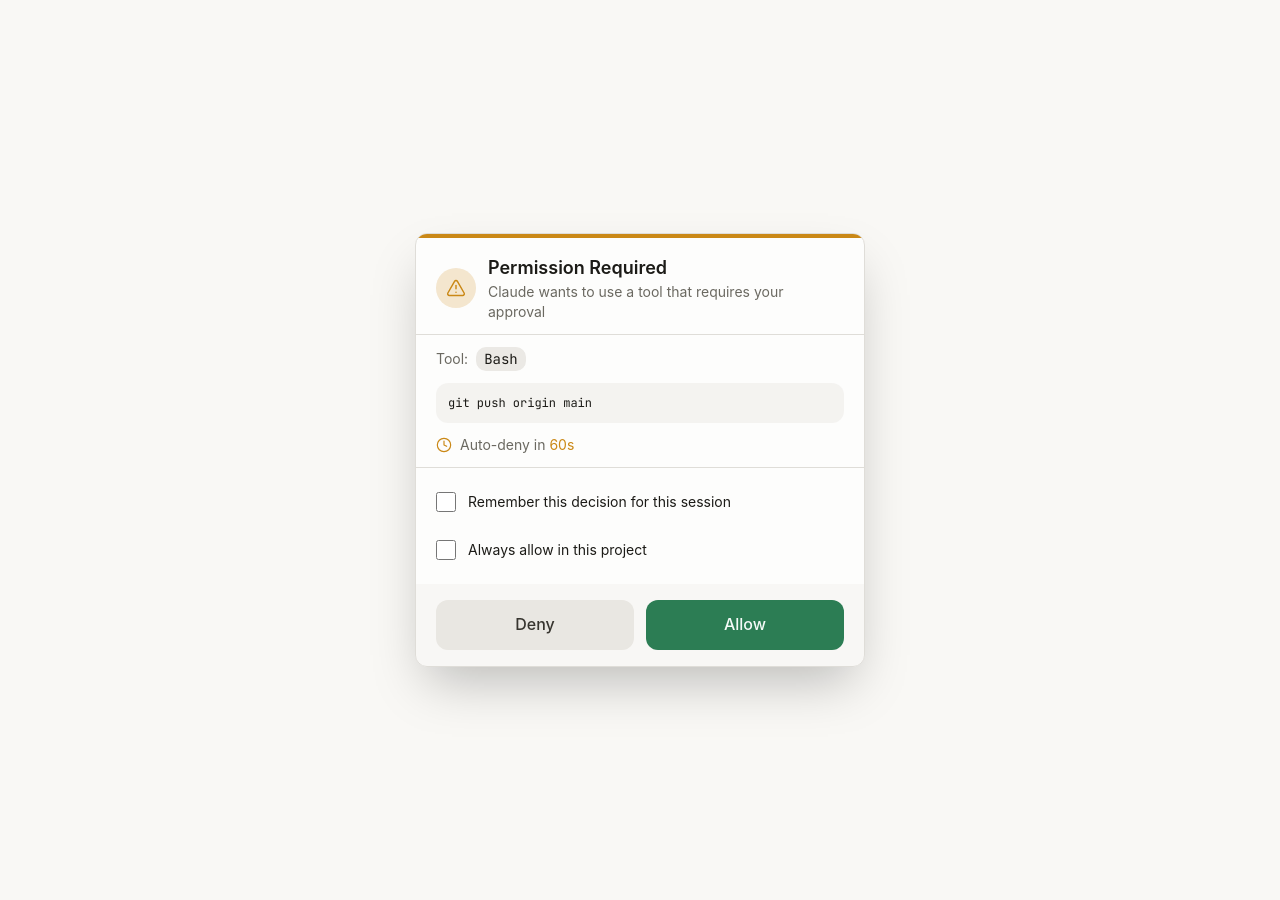
Test case: PermissionModal › shows an editable suggested rule when always-allow is checked
Click the checkbox labelled "Always allow in this project".
click(446, 550)  # box x1=436 y1=540 x2=456 y2=560
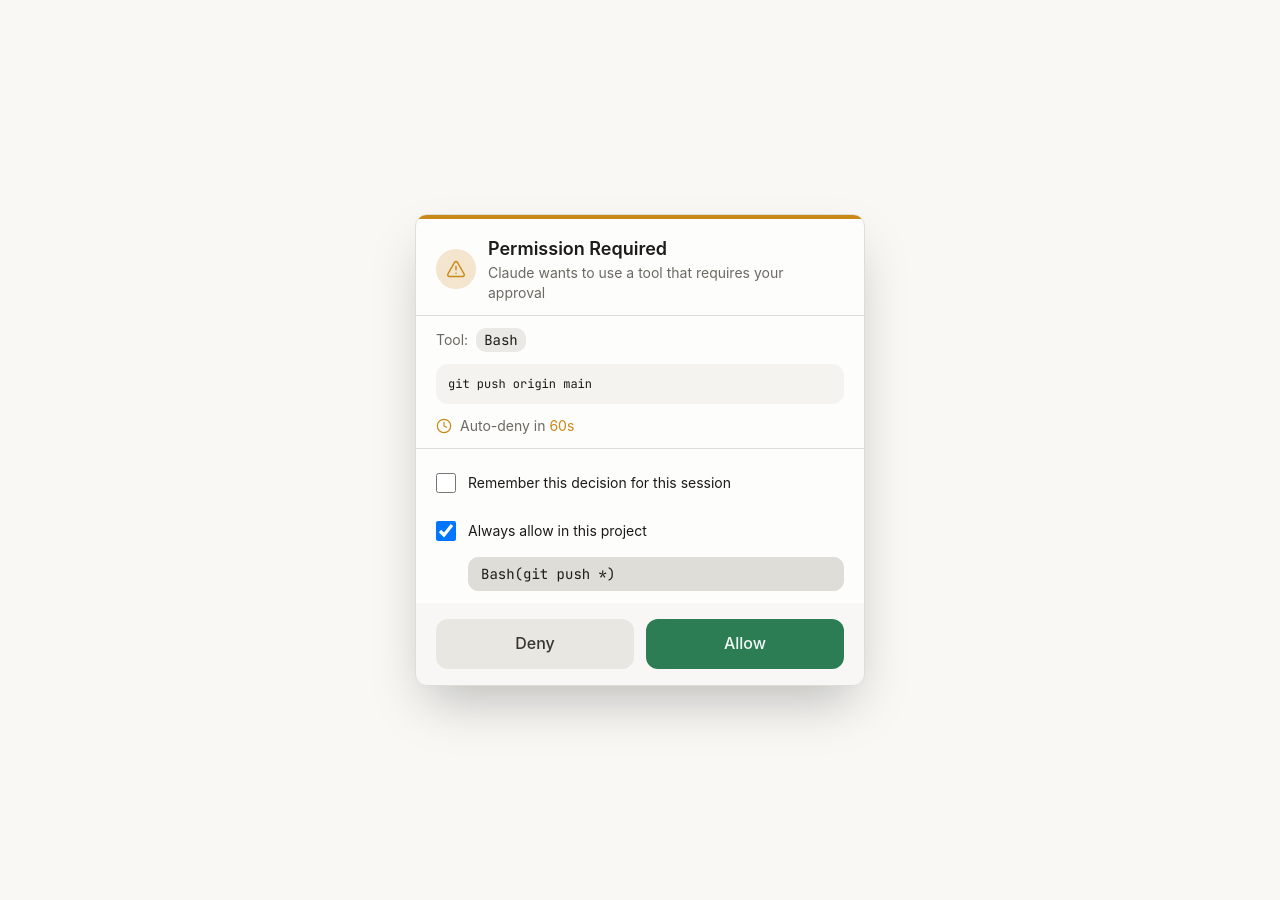
Result: the field showing "Bash(git push *)" is shown at x1=468 y1=557 x2=844 y2=591
